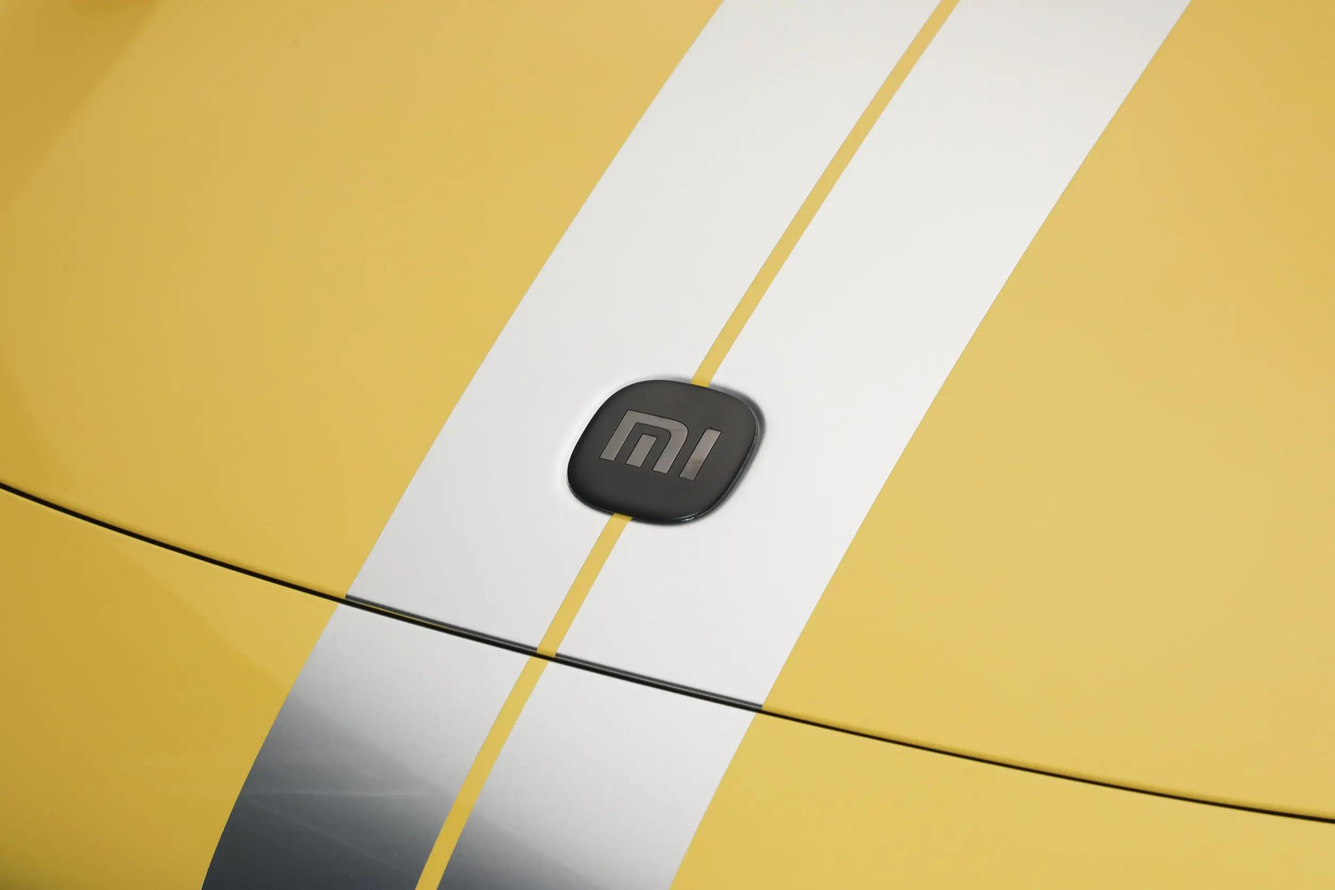XIAOMI: (566, 379, 760, 526)
